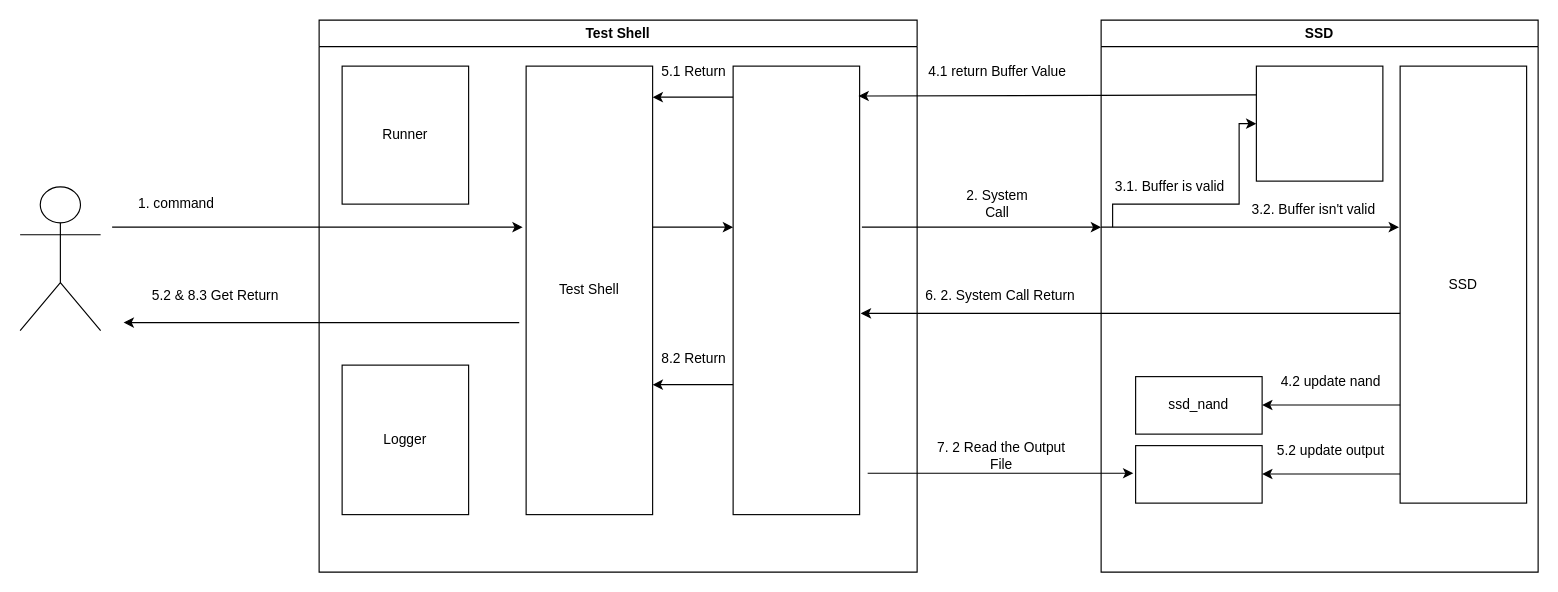
The diagram is 1558 pixels wide and 592 high, and some of its shapes have lost their labels. Here are the shapes that lost their labels. From the top down, the centre of each, then its label:
[1319,123]: Buffer
[60,258]: User
[796,290]: SSD Adapter
[1198,473]: SSD_output.txt
